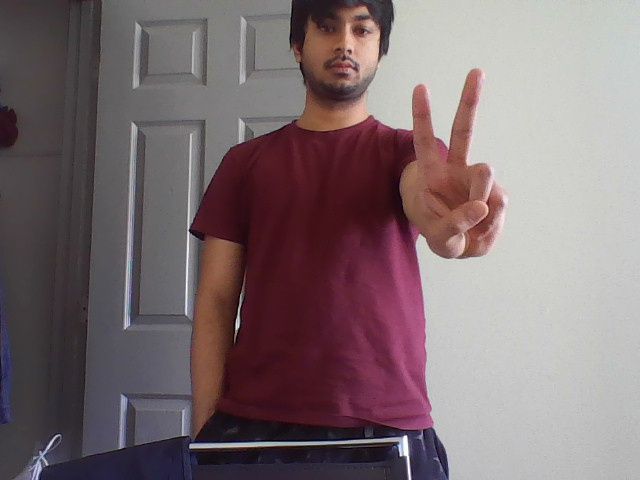two: (405, 65, 492, 176)
